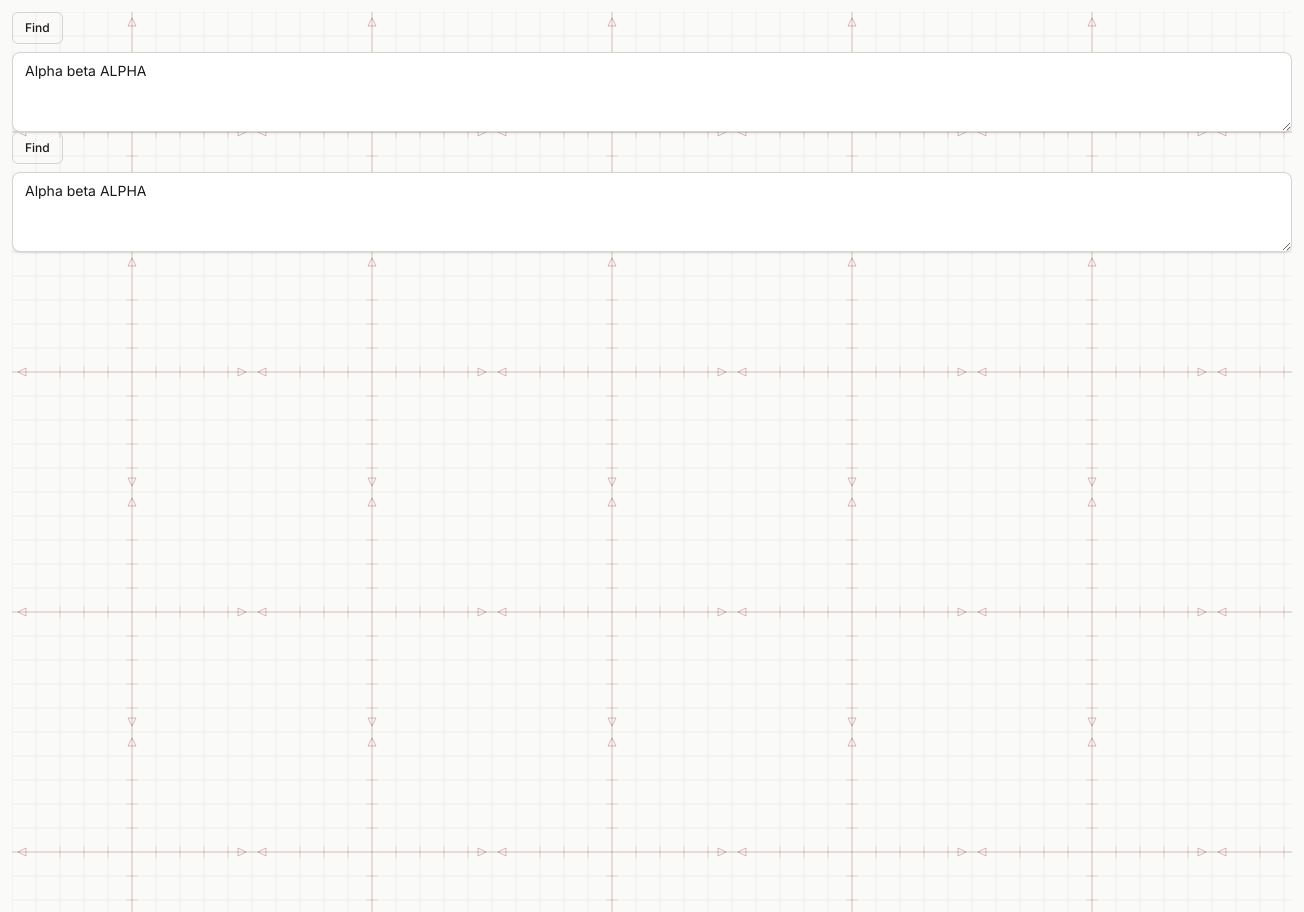
Scenario: FindTextarea › keeps searches independent across editors
Click the 1st button "Find" at (37, 28), box [12,12,63,44]
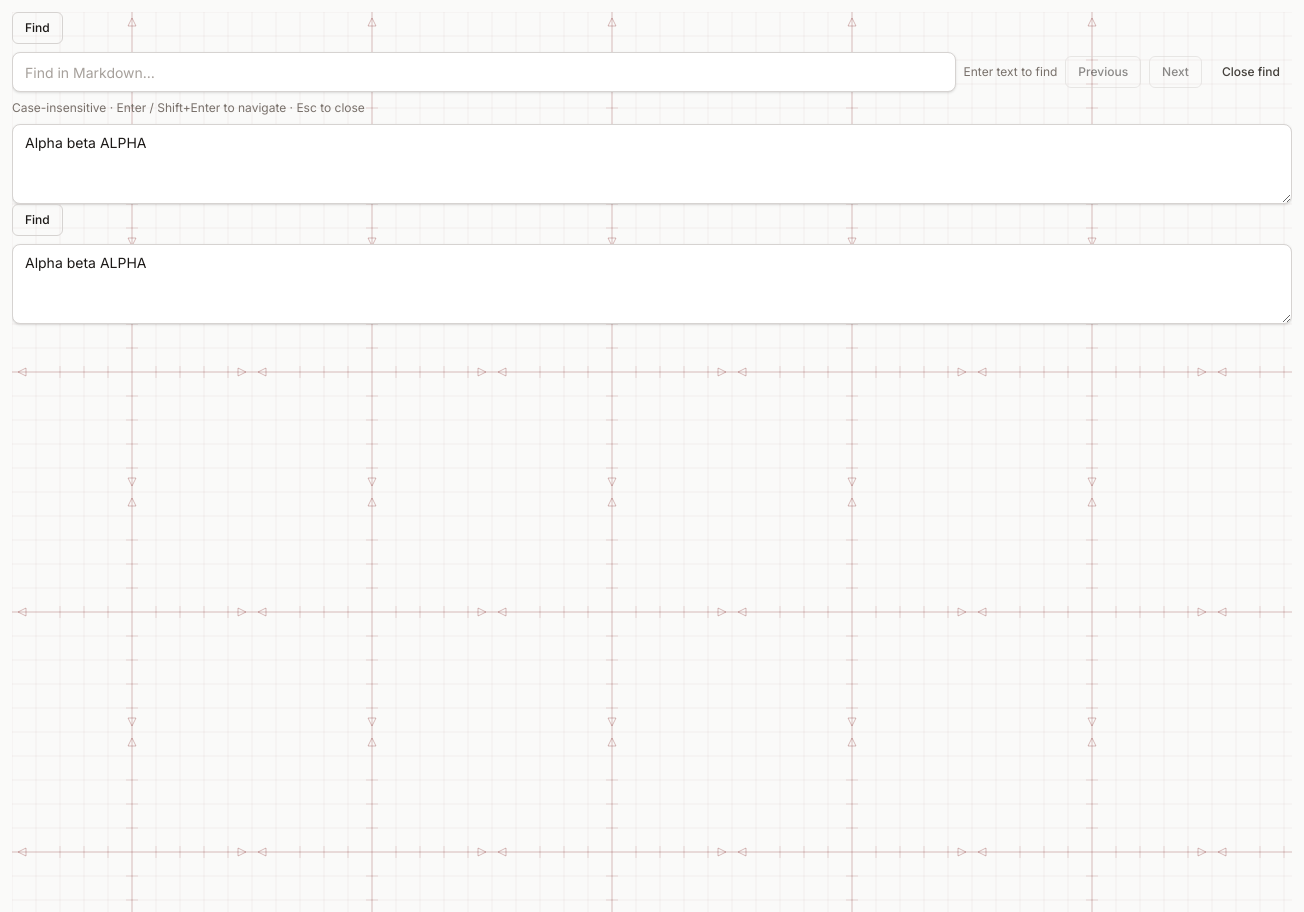
Type "beta" into the field labelled "Find in Markdown" at (484, 72), box [12,52,956,92]
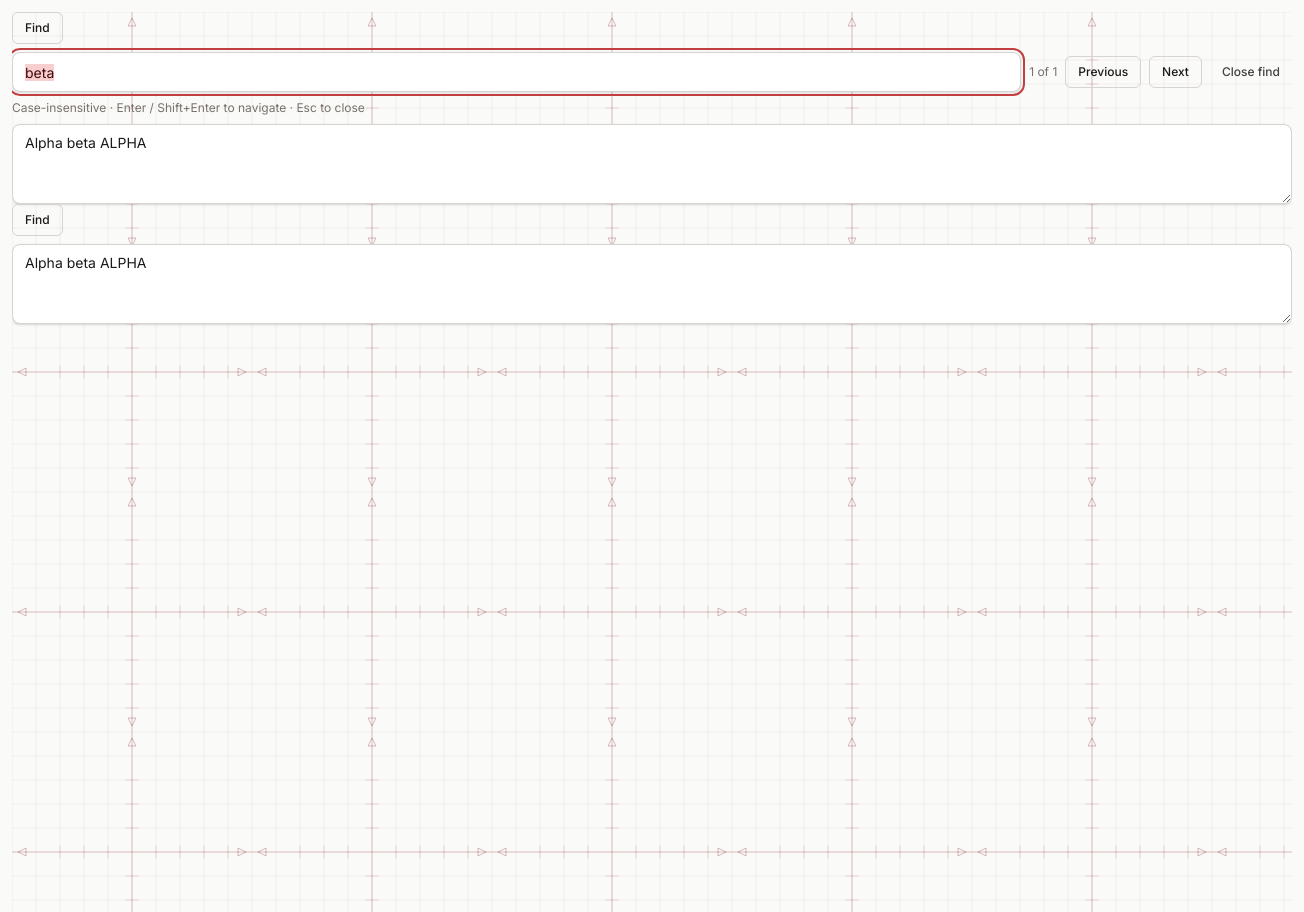
Now the message reads "1 of 1", box [1029,64,1057,79]
